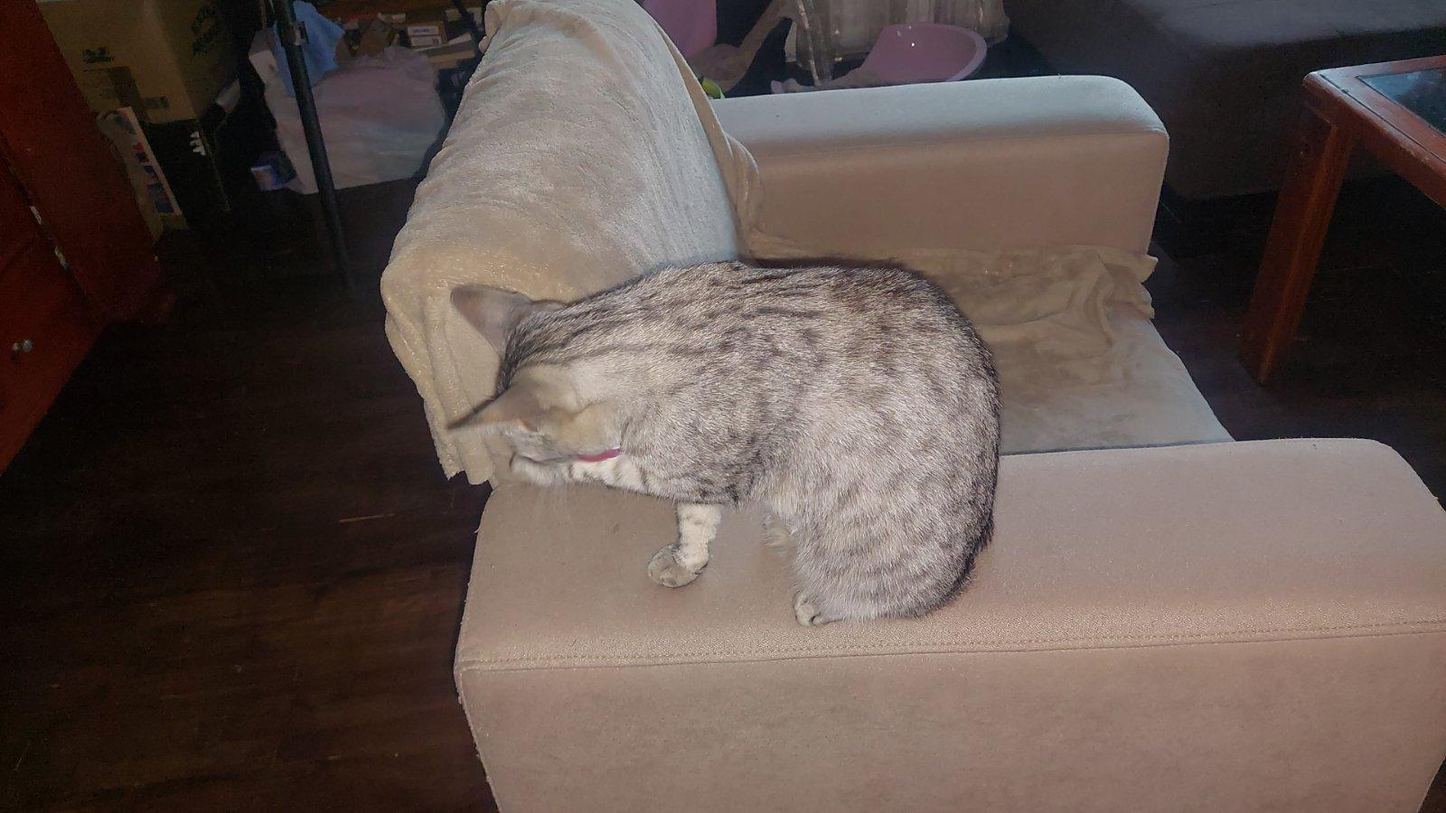macka: (446, 253, 1005, 631)
